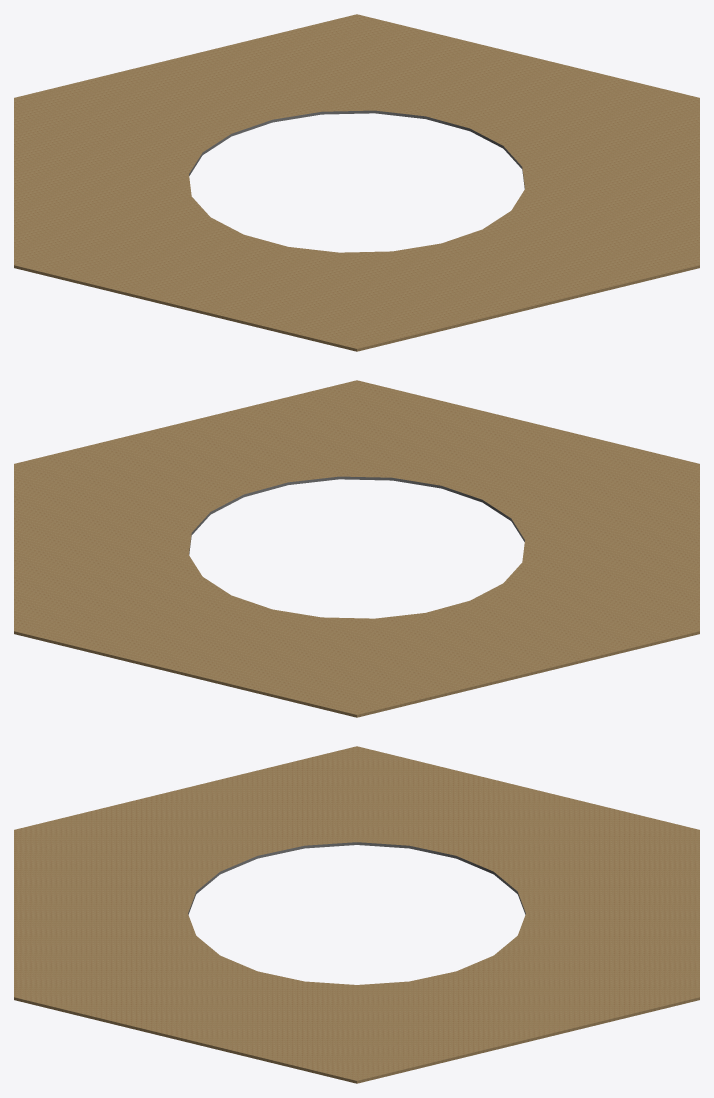
File: OuterGround.obj
The picture shows the model from 3 angles, top to bottom: view 1: azimuth 30°, elevation 25°; view 2: azimuth 150°, elevation 25°; view 3: azimuth 270°, elevation 25°; orthographic projection.
Parts seen in each view (by area): view 1: OuterGround; view 2: OuterGround; view 3: OuterGround.
Boxes of the visible parts, x1,y1,x2,y2 form: OuterGround: (14, 14, 699, 351); OuterGround: (14, 380, 699, 717); OuterGround: (14, 746, 699, 1083).
Bounding box in the file's own units: 513 × 2 × 444.
Materials: 2 (1 with a texture image).
